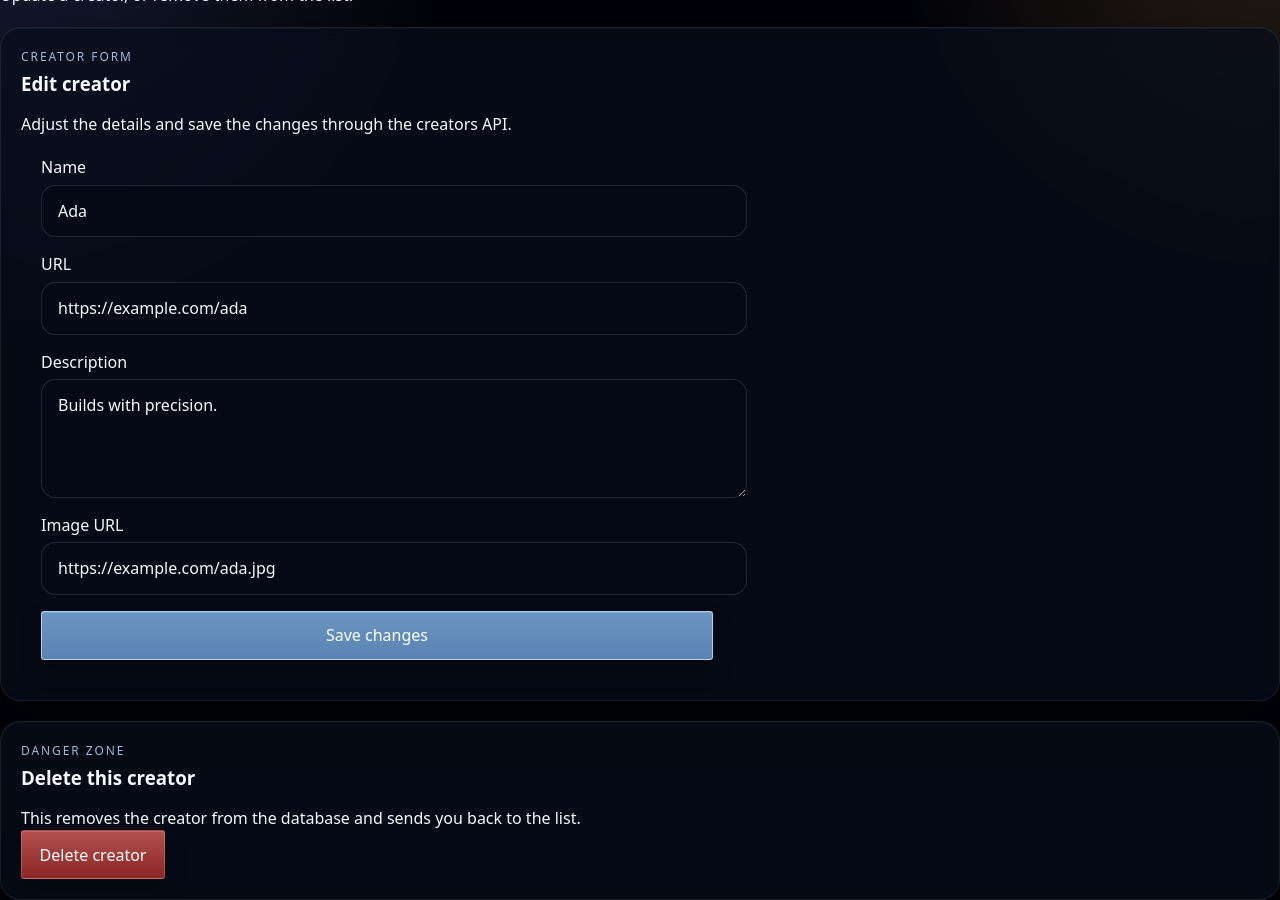
Scenario: EditCreator › shows a readable error when delete fails
The image size is (1280, 900).
(page scrolled)
Expected: the field showing "Ada" is shown, [41,185,747,237]
Click the button "Delete creator": (93, 855) [21,830,165,879]
(page scrolled)
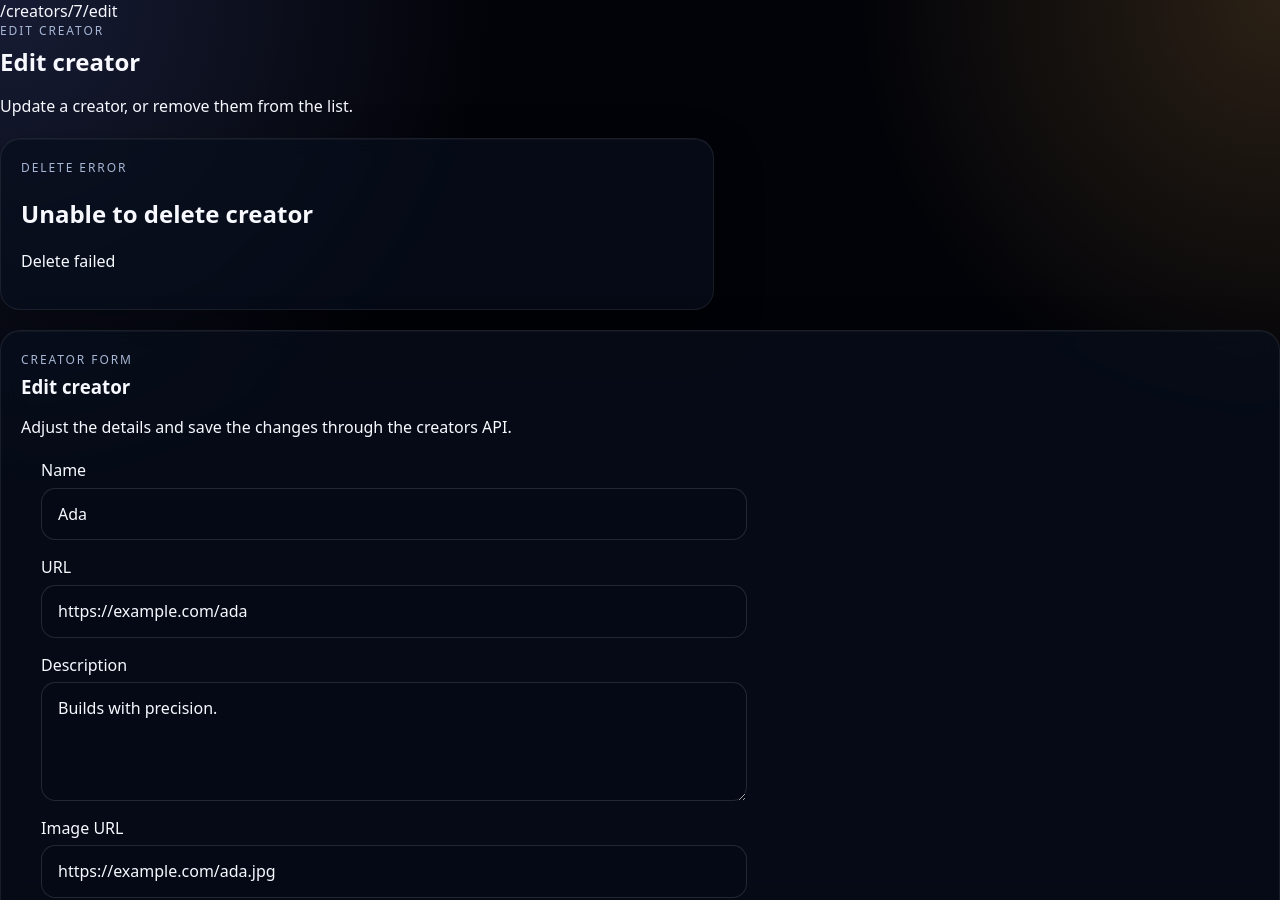
Expected: the text with test id "location" reads "/creators/7/edit", [0,0,118,22]
Expected: the message shows "Delete failed", [21,250,115,272]
